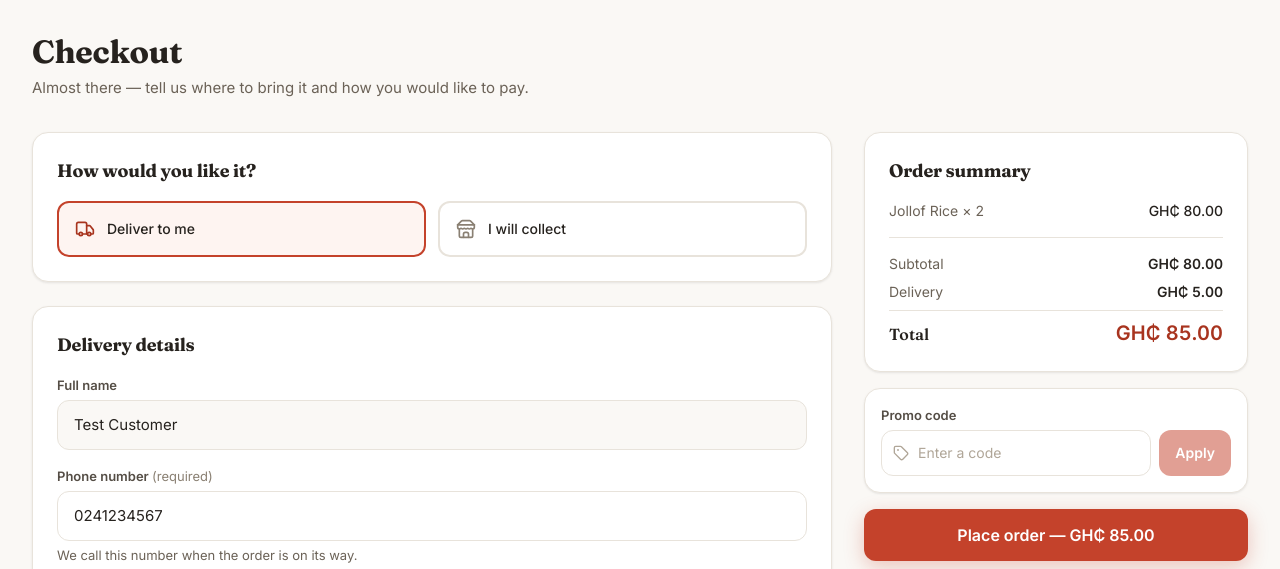
it: CheckoutPage › says so when the order could not be placed
The image size is (1280, 569).
Click the button "Place order — GH₵ 85.00" at (1056, 535), box [864, 509, 1248, 561]
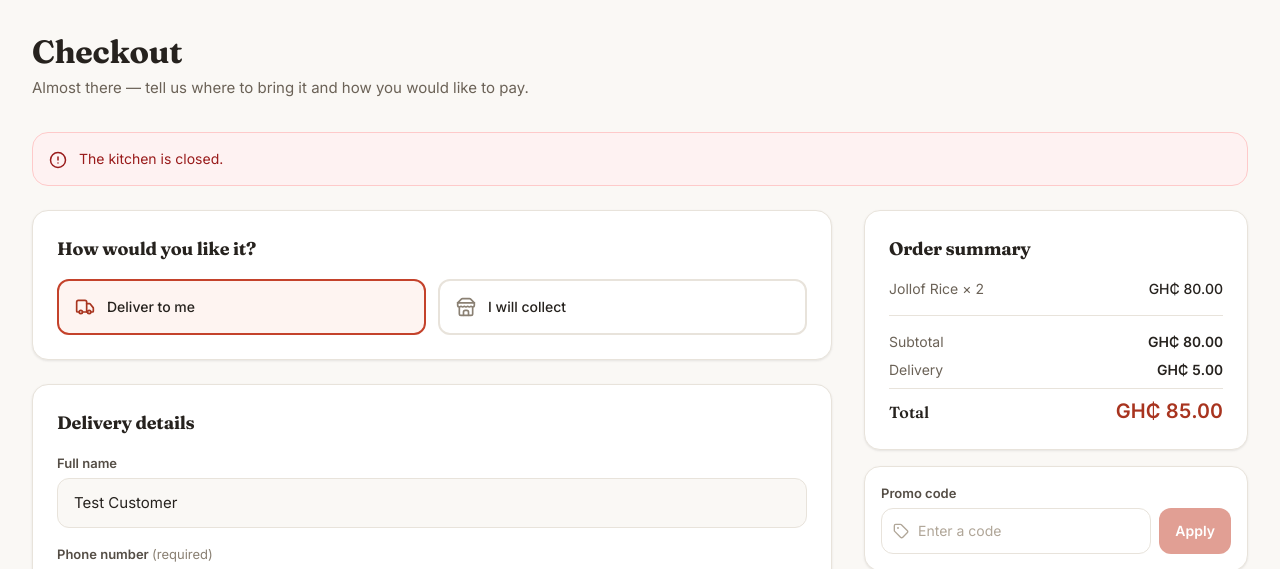
Expected: the message reads "The kitchen is closed.", [79, 150, 223, 167]
